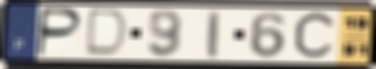6: (248, 11, 288, 60)
9: (146, 8, 183, 60)
C: (291, 9, 340, 63)
D: (82, 7, 131, 59)
I: (207, 10, 222, 60)
P: (34, 7, 85, 58)
